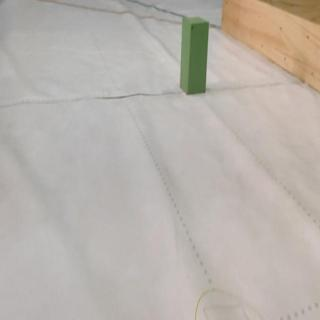greenbox: (179, 15, 210, 93)
